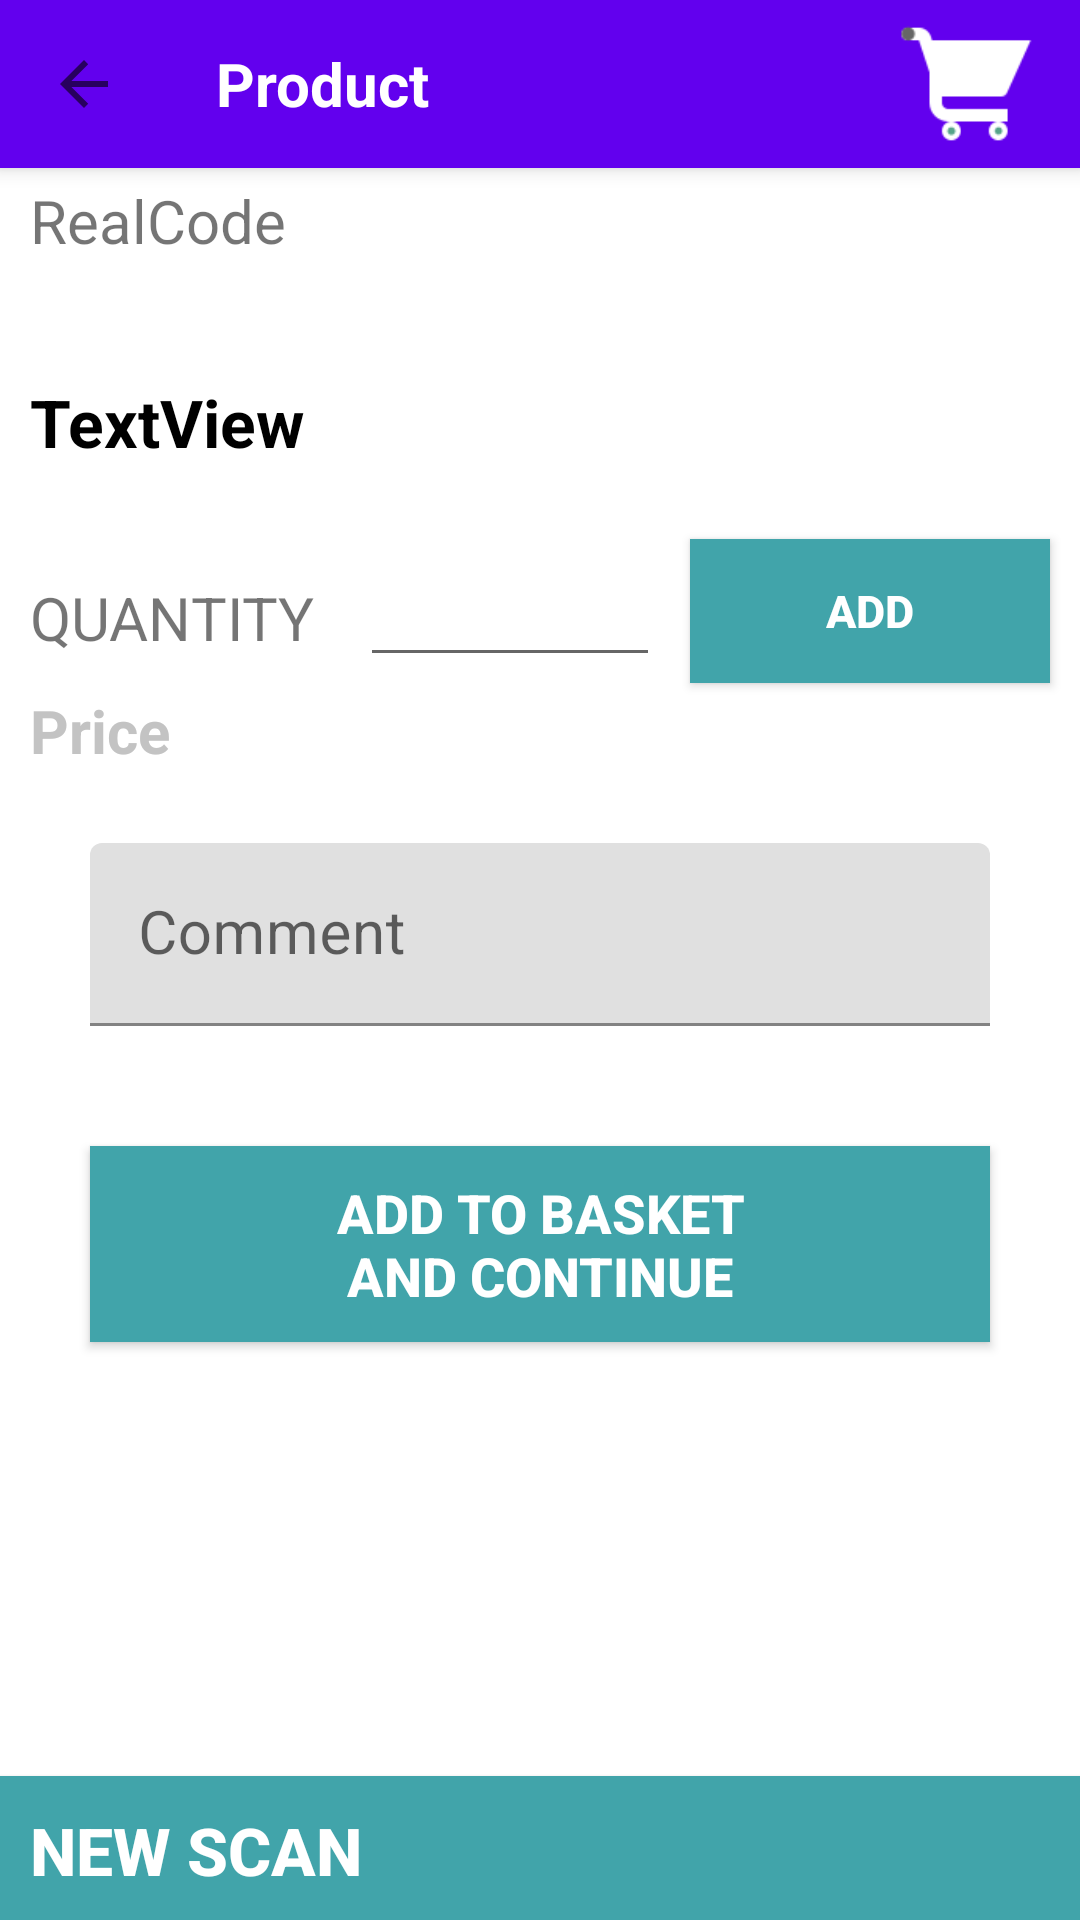

Screen size 1080×1920. Icon name, then its box in pixels as (x1, y1, x2, y2):
cart: (901, 26, 1032, 141)
